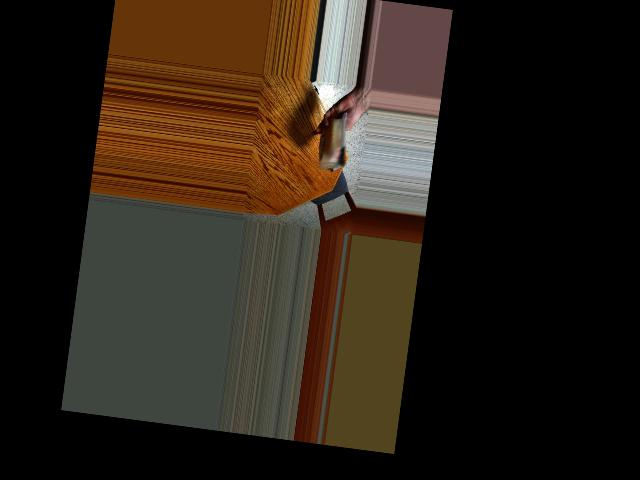cheese: (310, 114, 355, 171)
